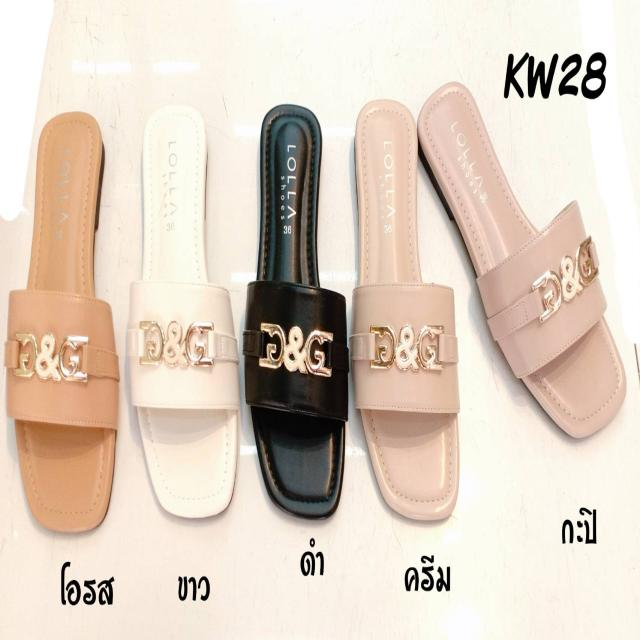black: (250, 98, 346, 516)
cream: (357, 103, 458, 519)
kapi: (418, 87, 625, 435)
orot: (14, 115, 112, 527)
white: (134, 116, 236, 522)
